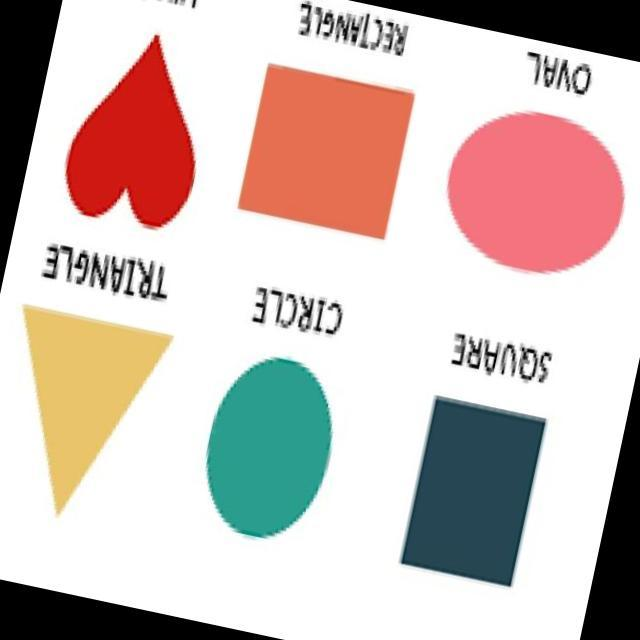circle: (438, 83, 637, 302), (198, 341, 345, 554)
square: (221, 43, 434, 272), (388, 348, 557, 619)
triangle: (0, 263, 181, 525)
